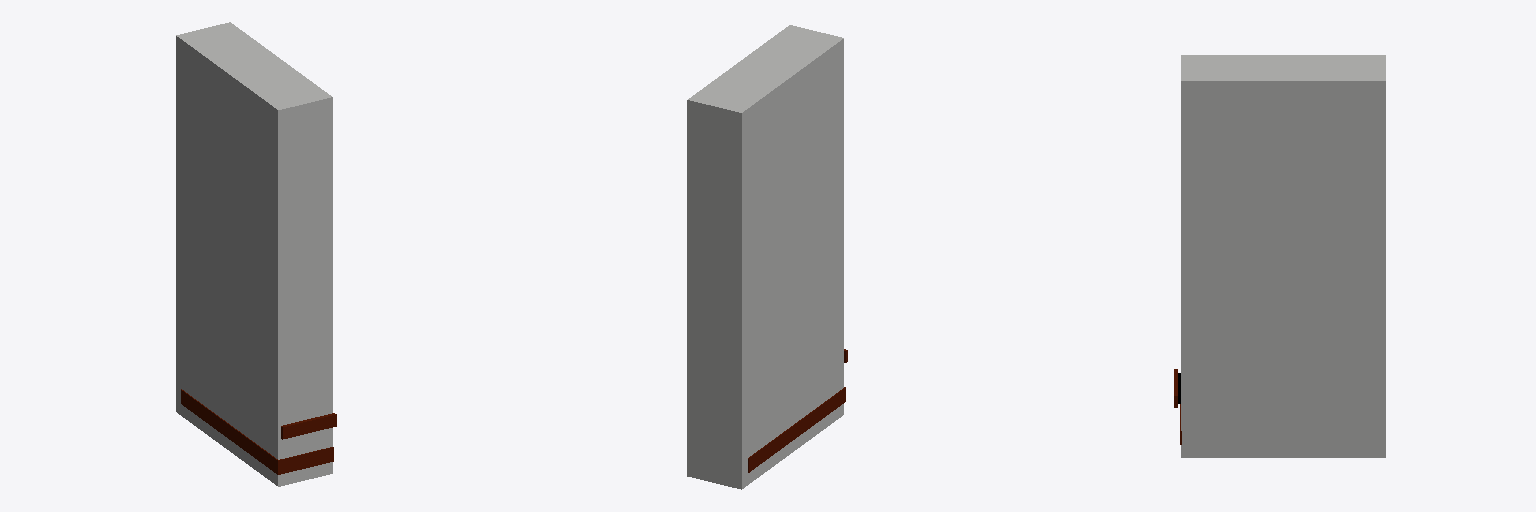
Rendered from Interior_Facde_Wall_parts1.obj.
3 views of the same model, side by side, from view 1: azimuth 30°, elevation 25°; view 2: azimuth 150°, elevation 25°; view 3: azimuth 270°, elevation 25° (orthographic).
Parts seen in each view (by area): view 1: Part5, Part1, Part3, Part4; view 2: Part5, Part1; view 3: Part5.
Part boxes in pixels (left/top/right/bottom): Part5: left=176, top=22, right=332, bottom=486; Part1: left=181, top=389, right=277, bottom=474; Part3: left=278, top=447, right=333, bottom=474; Part4: left=281, top=413, right=336, bottom=439; Part5: left=687, top=25, right=843, bottom=489; Part1: left=748, top=387, right=845, bottom=472; Part5: left=1181, top=55, right=1385, bottom=457.
Bounding box in the file's own units: 3.79 × 24.43 × 12.49.